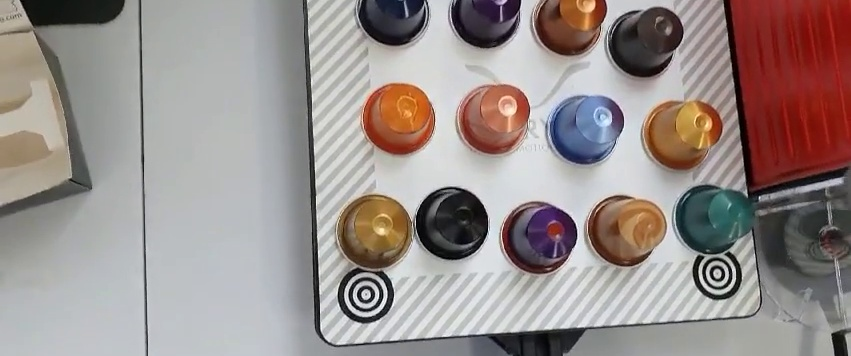capsule_1: (350, 1, 431, 49)
capsule_10: (417, 187, 489, 260)
capsule_11: (499, 199, 578, 277)
capsule_12: (586, 193, 667, 271)
capsule_13: (672, 183, 755, 260)
capsule_2: (448, 1, 522, 49)
capsule_3: (530, 1, 605, 61)
capsule_4: (606, 10, 682, 81)
capsule_5: (360, 80, 438, 156)
capsule_6: (454, 78, 531, 155)
capsule_7: (545, 94, 624, 168)
capsule_8: (643, 98, 720, 175)
capsule_9: (335, 190, 413, 272)
